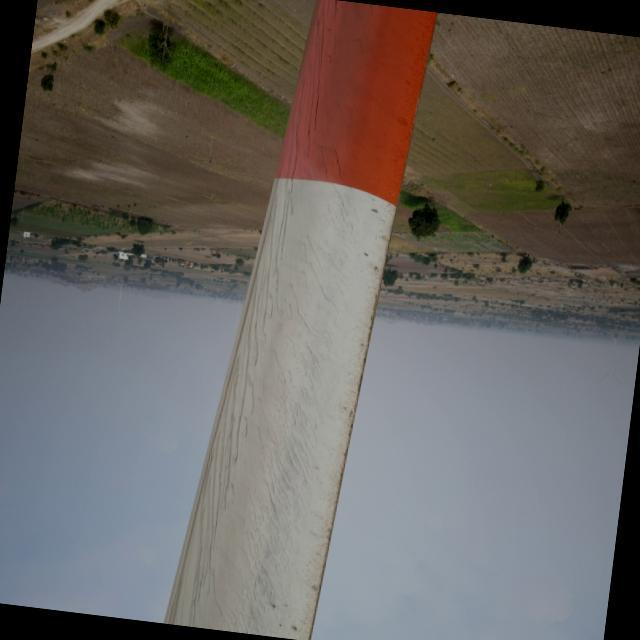Dirt: (158, 7, 440, 640)
